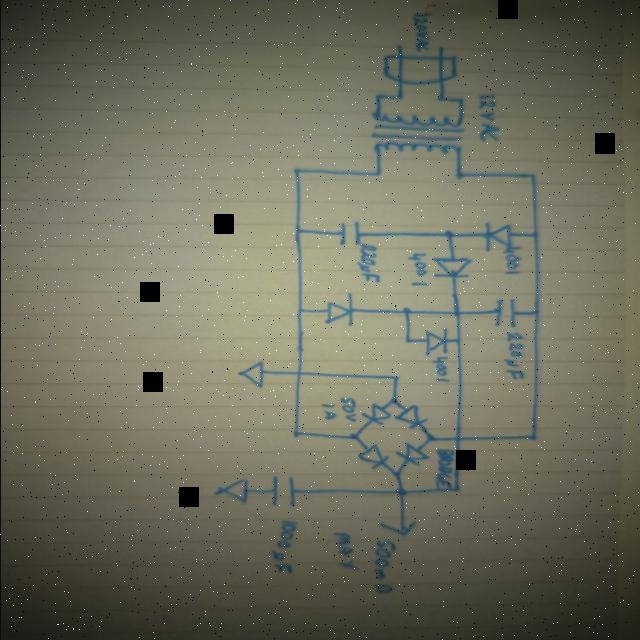capacitor: (268, 472, 298, 509), (492, 297, 516, 329), (338, 222, 362, 246)
crossover: (452, 434, 461, 442), (294, 370, 303, 378), (452, 310, 461, 316)
diode: (324, 292, 354, 328), (430, 256, 470, 280), (356, 443, 390, 471), (482, 220, 510, 252), (393, 404, 428, 429), (396, 442, 430, 466), (423, 326, 448, 356), (361, 403, 391, 425)
ground: (211, 477, 249, 508), (236, 360, 264, 390)
junction: (401, 307, 413, 316), (443, 230, 455, 239), (290, 429, 302, 438), (395, 488, 407, 496), (425, 434, 436, 442), (372, 170, 382, 178), (389, 396, 399, 404), (453, 336, 462, 344), (455, 172, 464, 180), (350, 432, 360, 439), (292, 228, 302, 235), (529, 432, 537, 440), (528, 173, 537, 180), (450, 486, 460, 492), (291, 168, 301, 174), (436, 95, 444, 102), (531, 232, 540, 238), (404, 337, 412, 343), (532, 310, 540, 316), (393, 471, 401, 477), (296, 308, 304, 314), (392, 374, 399, 380), (374, 94, 381, 100), (457, 97, 464, 103), (396, 94, 402, 100)
terminal: (378, 520, 416, 536), (436, 44, 446, 52), (394, 44, 404, 52)
text: (269, 516, 299, 576), (370, 538, 396, 596), (331, 530, 361, 572), (478, 92, 500, 146), (356, 242, 381, 284), (504, 331, 524, 380), (411, 9, 431, 54), (406, 252, 429, 286), (435, 448, 454, 488), (502, 246, 522, 276), (431, 355, 449, 384), (339, 397, 358, 423), (321, 403, 338, 421)
transformer: (369, 112, 465, 158)
